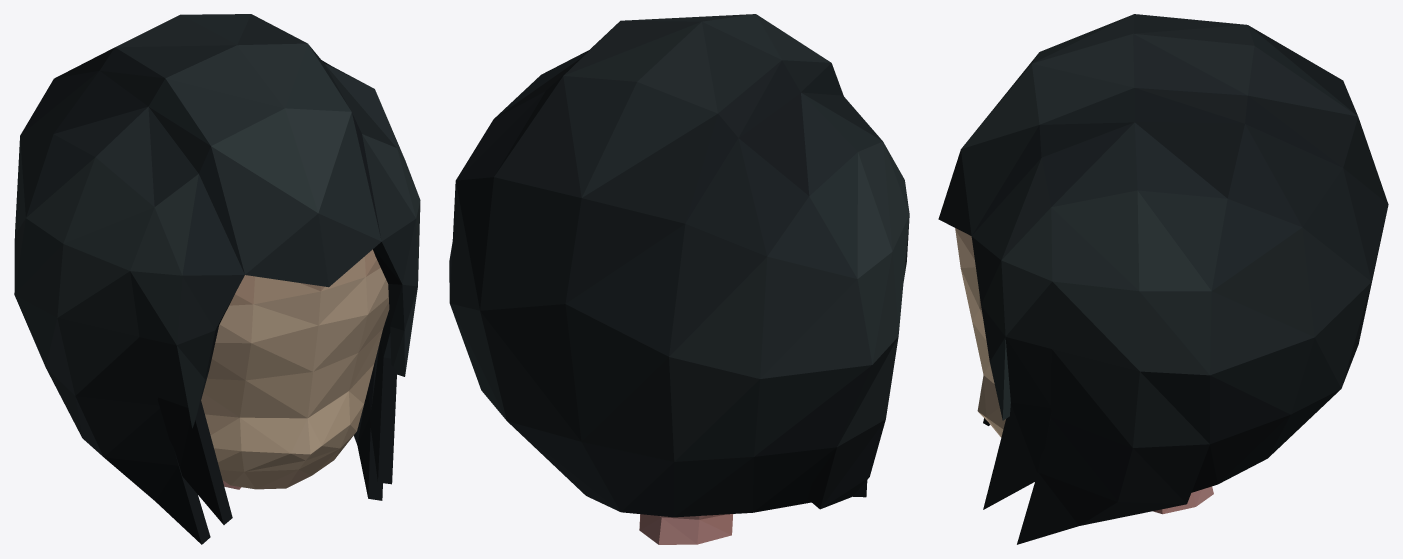
The model's file is helm_lightskin_bob_black.fbx.
The picture shows the model from 3 angles, left to right: view 1: azimuth 30°, elevation 25°; view 2: azimuth 150°, elevation 25°; view 3: azimuth 270°, elevation 25°; orthographic projection. The views are drawn at different scales.
Visible parts, largest first — view 1: helm_lightskin_bob_black; view 2: helm_lightskin_bob_black; view 3: helm_lightskin_bob_black.
Boxes of the visible parts, bbox=[...] form: helm_lightskin_bob_black: bbox=[14, 14, 420, 544]; helm_lightskin_bob_black: bbox=[449, 14, 909, 544]; helm_lightskin_bob_black: bbox=[938, 14, 1388, 544].
Bounding box in the file's own units: 1.18 × 1.34 × 1.16.
